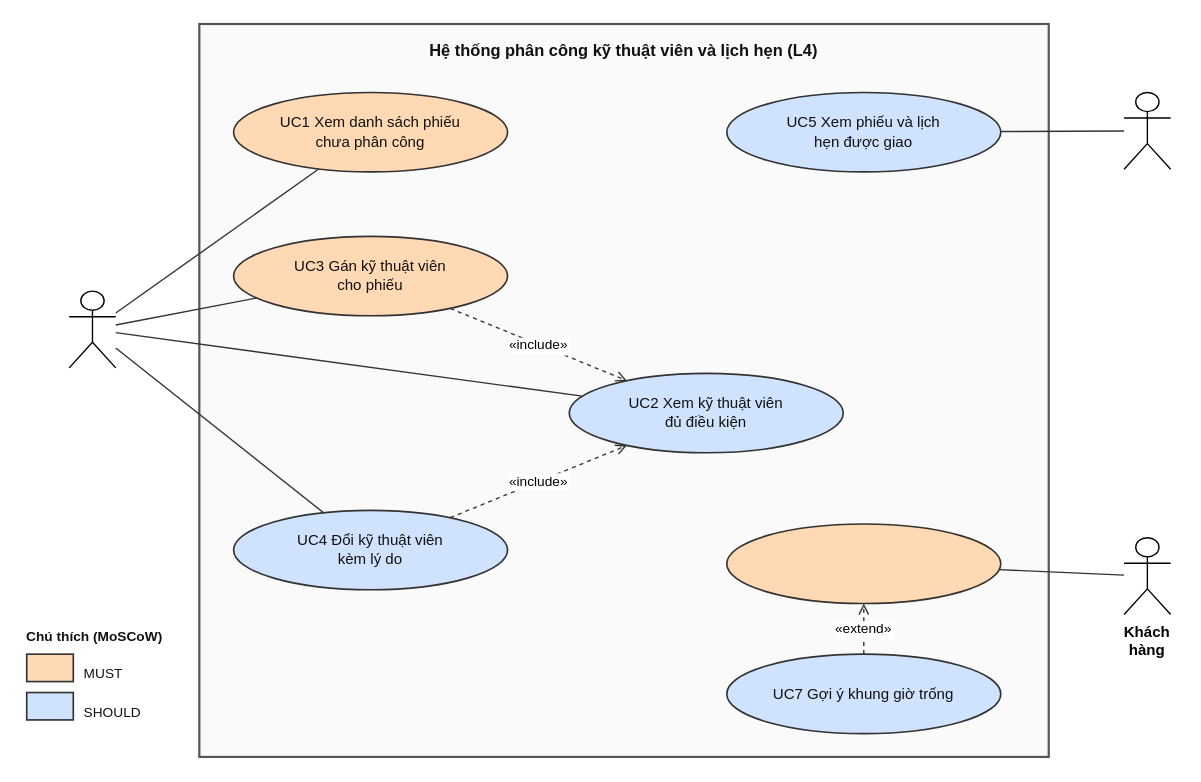
This 1201x782 diagram has some shape labels left out. Here are the shapes that lost their labels. From the top down, the centre of each, then its label:
pixel 1147 130: Kỹ thuật viên
pixel 92 329: Quản lý trung tâm
pixel 863 563: UC6 Đặt lịch hẹn giao – nhận máy
